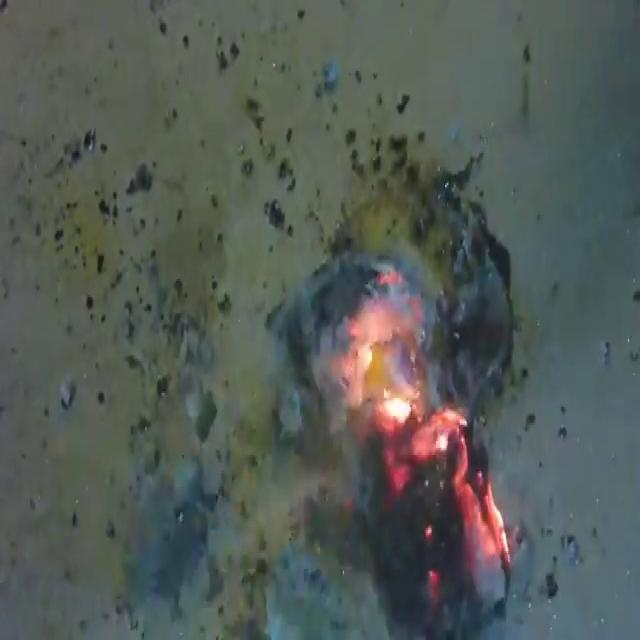Fire: (3, 4, 636, 636), (332, 261, 518, 608)
